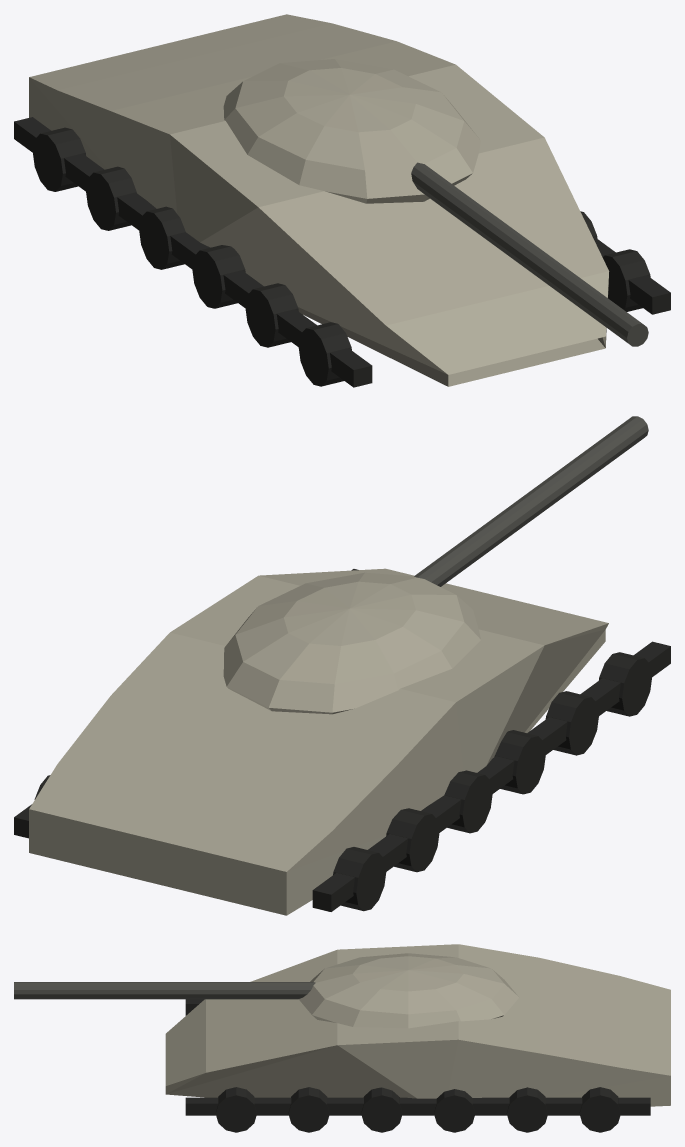
The picture shows the model from 3 angles, top to bottom: view 1: azimuth 30°, elevation 25°; view 2: azimuth 150°, elevation 25°; view 3: azimuth 270°, elevation 25°; orthographic projection. The views are drawn at different scales.
Visible parts, largest first — view 1: Hull, Turret, Gun, Track_L, Wheel_L_02, Wheel_L_01, Wheel_L_06, Wheel_L_03, Wheel_L_05, Wheel_L_04, Wheel_R_01, Track_R; view 2: Hull, Turret, Gun, Track_L, Wheel_L_06, Wheel_L_01, Wheel_L_02, Wheel_L_05, Wheel_L_03, Wheel_L_04; view 3: Hull, Turret, Gun, Track_R, Wheel_R_06, Wheel_R_01, Wheel_R_02, Wheel_R_05, Wheel_R_03, Wheel_R_04.
Part boxes in pixels (x1,y1,x2,y2): Hull: (29,14,609,386); Turret: (223,59,480,203); Gun: (411,162,648,346); Track_L: (14,117,372,387); Wheel_L_02: (245,283,298,347); Wheel_L_01: (298,322,351,386); Wheel_L_06: (32,127,85,191); Wheel_L_03: (192,245,245,308); Wheel_L_05: (86,166,136,230); Wheel_L_04: (139,206,185,269); Wheel_R_01: (602,249,650,311); Track_R: (593,236,670,314); Hull: (29,568,608,915); Turret: (223,572,480,714); Gun: (414,416,648,586); Track_L: (312,641,670,911); Wheel_L_06: (333,847,386,911); Wheel_L_01: (599,652,652,716); Wheel_L_02: (545,691,598,755); Wheel_L_05: (386,808,439,872); Wheel_L_03: (494,730,545,794); Wheel_L_04: (444,770,492,833); Hull: (165,944,670,1106); Turret: (298,953,519,1028); Gun: (14,982,315,999); Track_R: (185,1097,650,1115); Wheel_R_06: (579,1087,620,1132); Wheel_R_01: (215,1087,256,1132); Wheel_R_02: (288,1087,329,1132); Wheel_R_05: (506,1087,547,1132); Wheel_R_03: (361,1087,402,1132); Wheel_R_04: (434,1089,475,1132).
Size of the model in its own units: 3.74 by 1.75 by 9.62.
